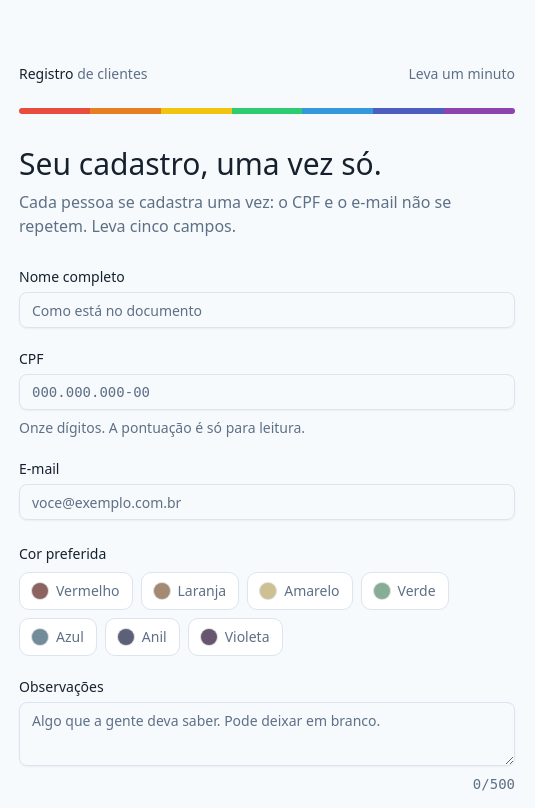
Test: ClientForm › mostra erro sem campo como alerta do formulário
The width and height of the screenshot is (535, 808).
Type "Maria Silva" into the field labelled "Nome completo" at (267, 310), box [19, 292, 515, 328]
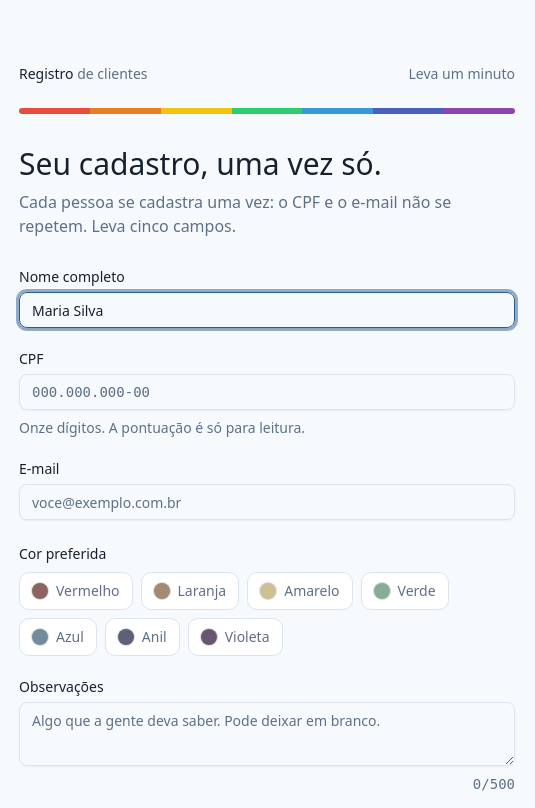
Type "123.456.789-09" into the field labelled "CPF" at (267, 392), box [19, 374, 515, 410]
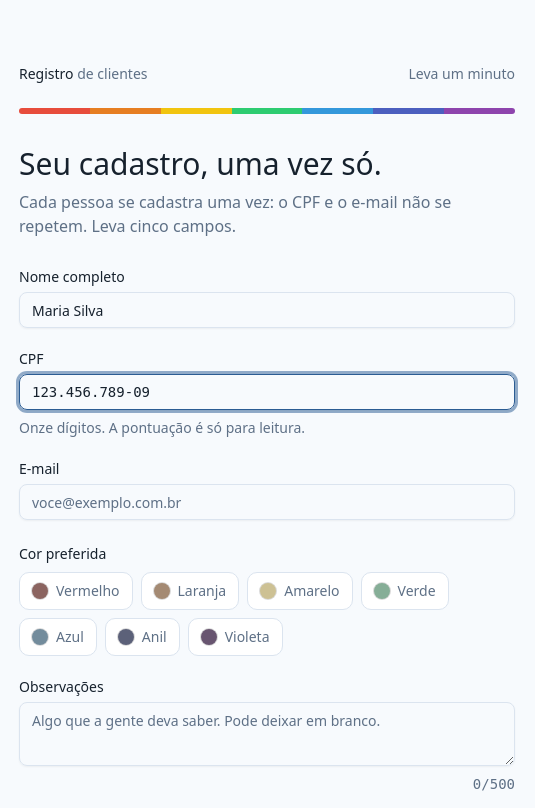
Type "maria@exemplo.com" into the field labelled "E-mail" at (267, 502), box [19, 484, 515, 520]
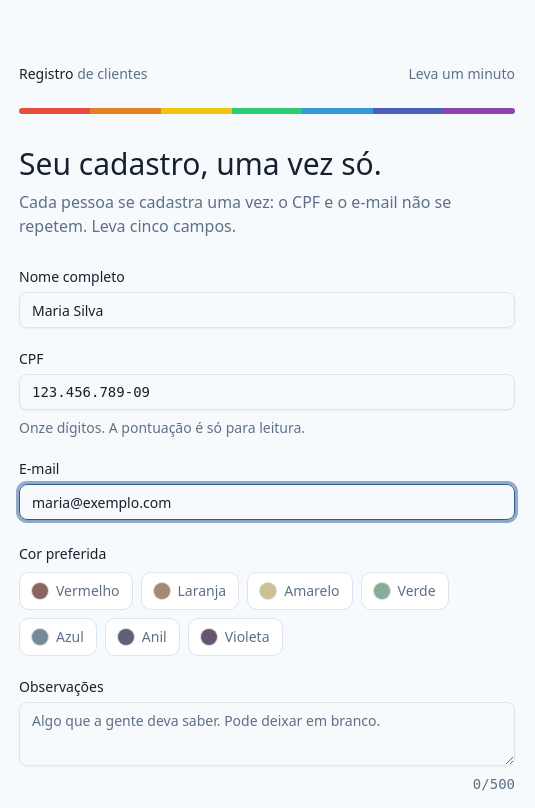
Click the radio button labelled "Verde" at (405, 591), box [361, 572, 449, 610]
(page scrolled)
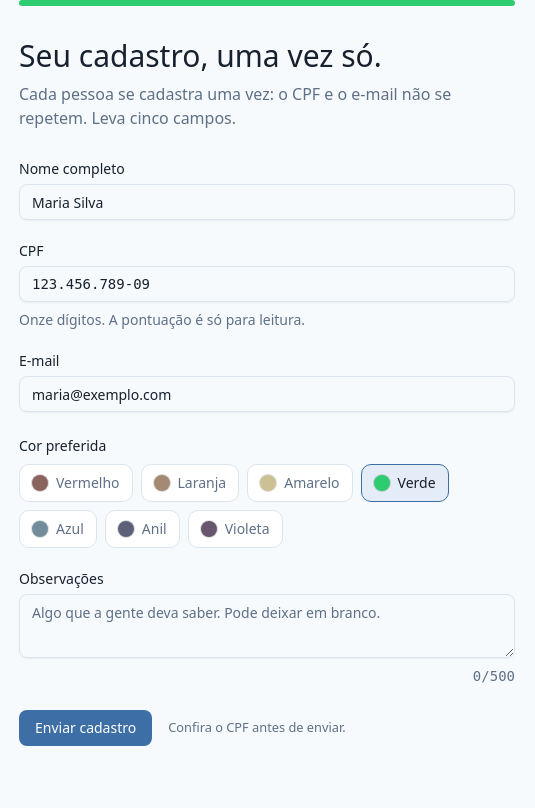
Click the button "Enviar cadastro" at (86, 728), box [19, 710, 152, 746]
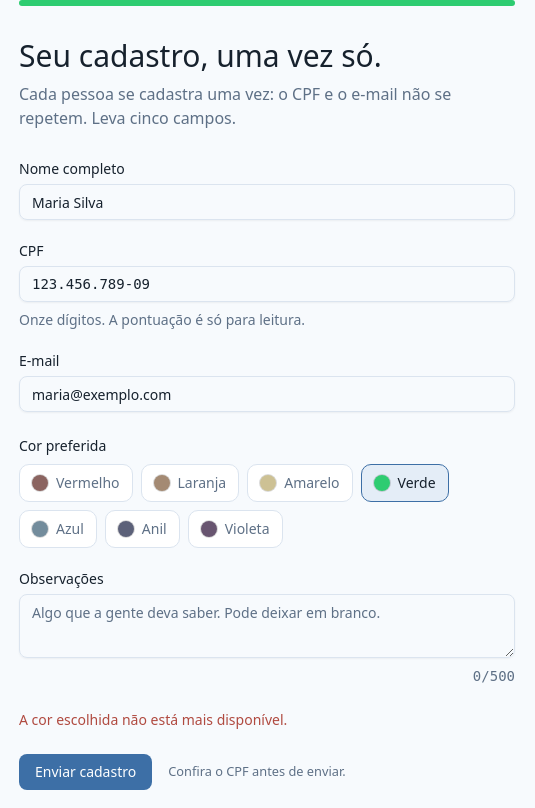
Result: the message reads "A cor escolhida não está mais disponível." at [19, 710, 287, 729]
